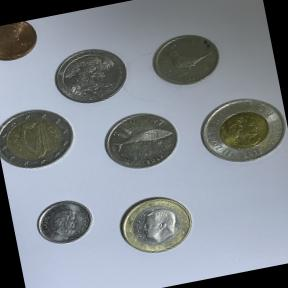1 Euro-B: (107, 187, 202, 264)
2 Euro-B: (0, 99, 81, 177)
Canada-10cent-B: (30, 192, 100, 251)
Canada-2Dollar-B: (185, 84, 288, 178)
Croatia-2Kune-B: (95, 102, 188, 179)
US-1cent-B: (0, 17, 47, 70)
US-25cent-B: (46, 39, 137, 112)
